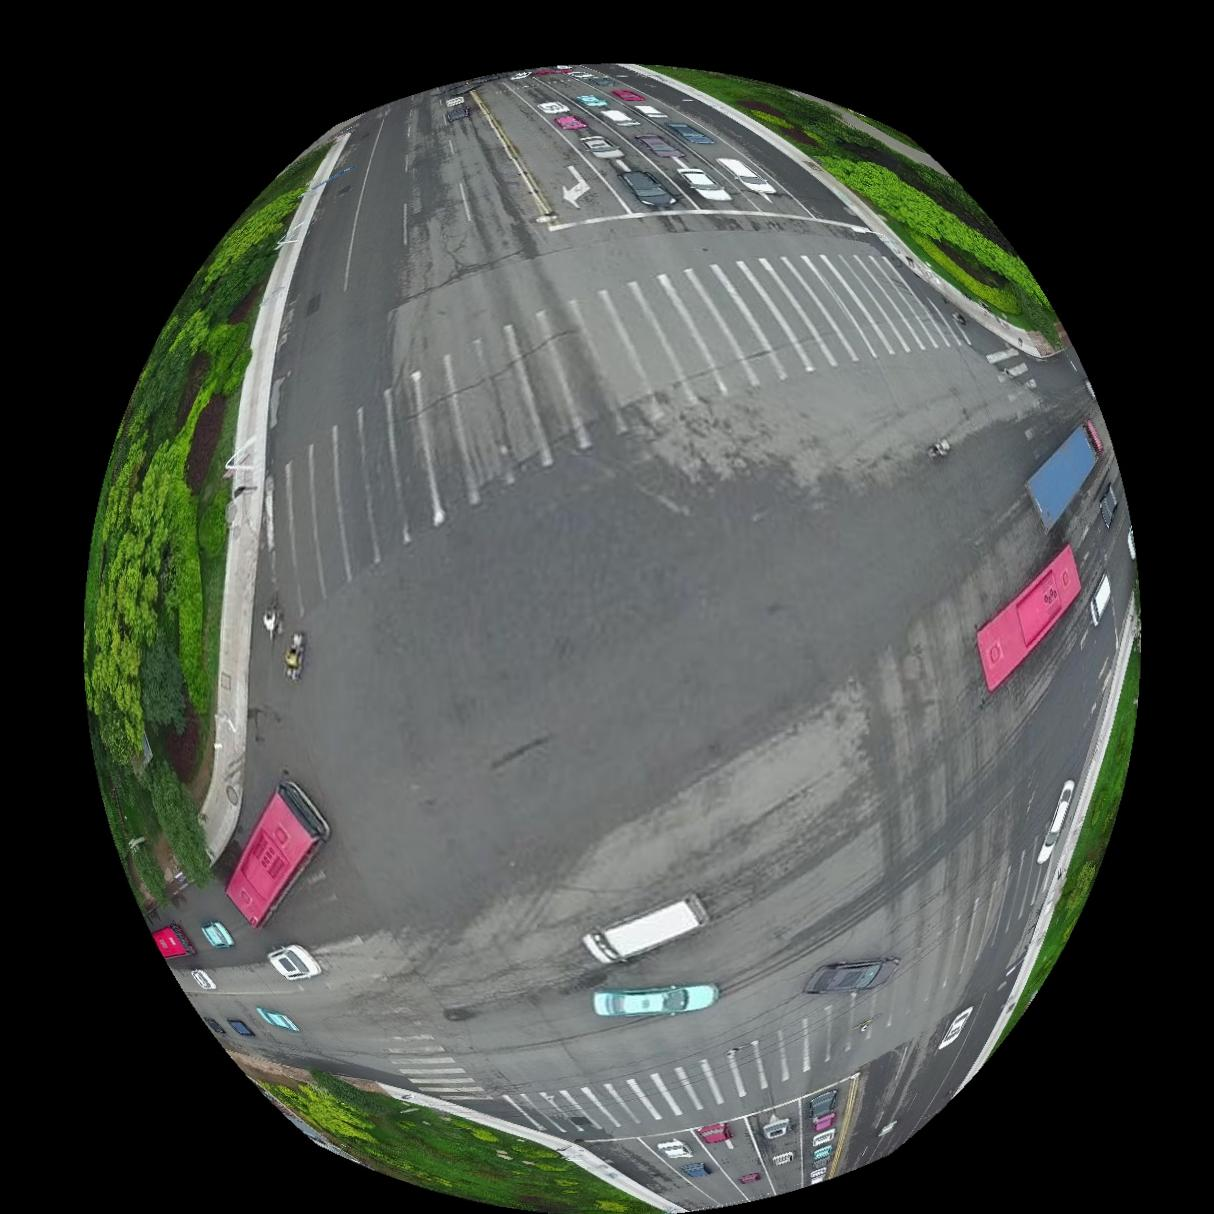cars: (978, 544, 1082, 690), (226, 780, 328, 928), (583, 896, 708, 963), (1029, 424, 1099, 528), (593, 984, 720, 1017), (805, 959, 899, 995), (1039, 779, 1076, 864), (718, 155, 777, 192), (621, 168, 677, 206), (267, 945, 320, 980), (680, 166, 730, 197), (255, 1007, 297, 1033), (635, 132, 684, 154), (1092, 574, 1113, 625), (666, 120, 714, 141), (581, 133, 623, 155), (200, 922, 232, 949), (811, 1090, 839, 1119), (697, 1124, 731, 1146), (657, 1139, 692, 1160), (763, 1119, 790, 1141), (602, 107, 638, 121), (680, 1164, 711, 1180), (554, 112, 587, 127), (813, 1129, 836, 1148), (536, 98, 568, 111), (816, 1113, 837, 1132), (611, 86, 644, 98), (576, 92, 606, 104), (772, 1152, 794, 1167), (636, 104, 666, 115), (737, 1173, 762, 1186)
trees: (82, 146, 324, 902), (670, 70, 1055, 319), (254, 1071, 658, 1214), (1003, 635, 1141, 1042)
